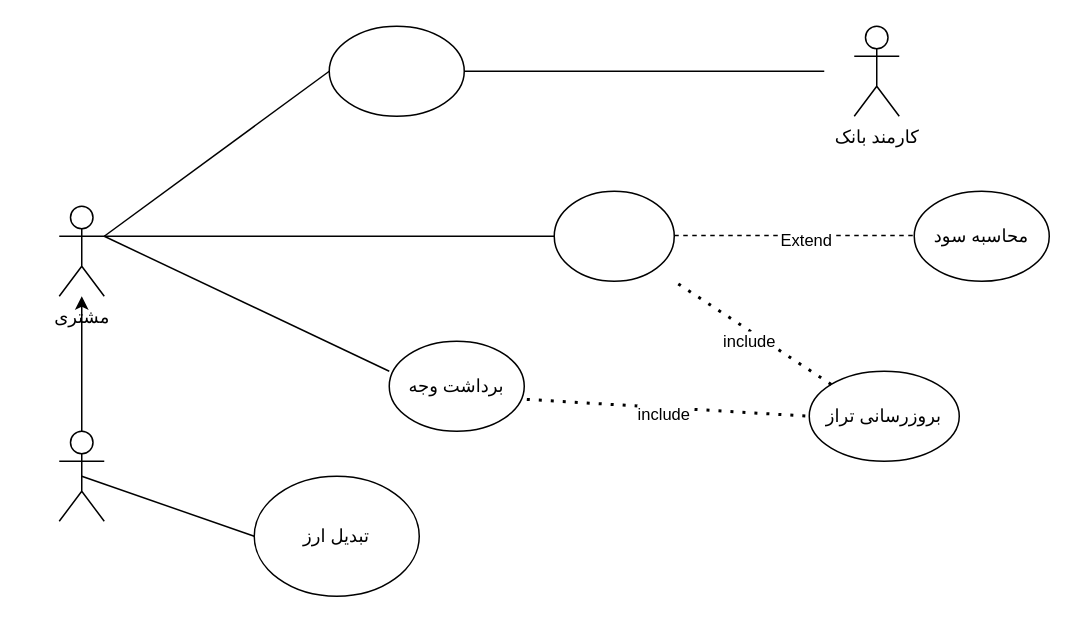
This 1076x623 diagram has some shape labels left out. Here are the shapes that lost their labels. From the top down, the box of each, then its label:
(328, 25, 464, 116): باز کردن حساب
(553, 190, 674, 281): سپرده گذاری وجه
(58, 430, 104, 521): مشتری NRPC
